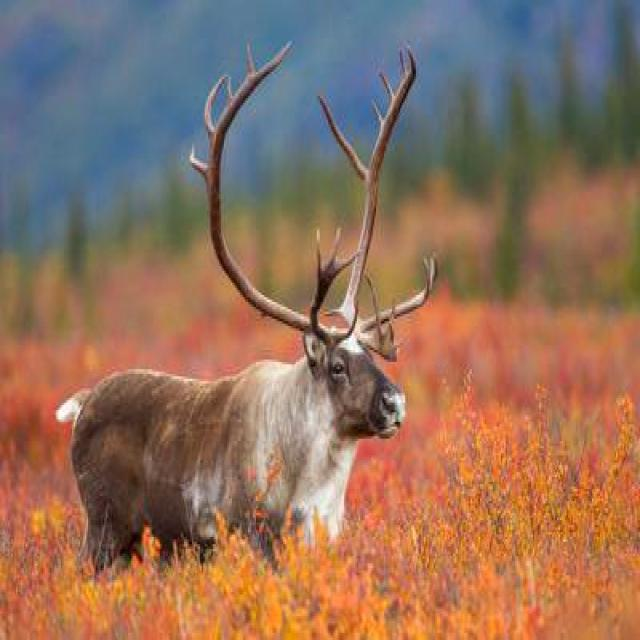reindeer: (58, 46, 435, 568)
